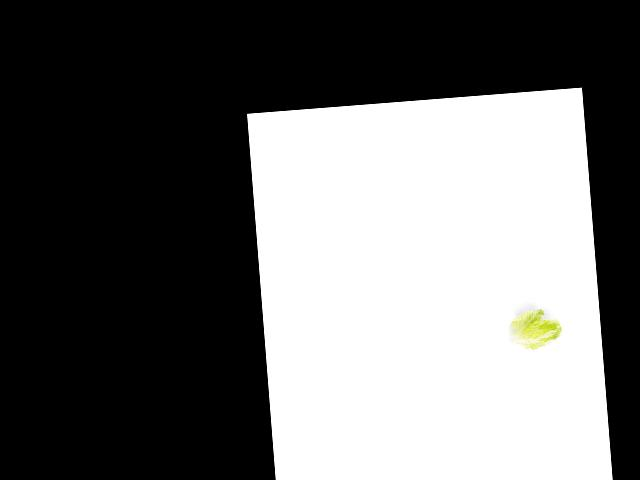lettuce: (502, 306, 566, 353)
